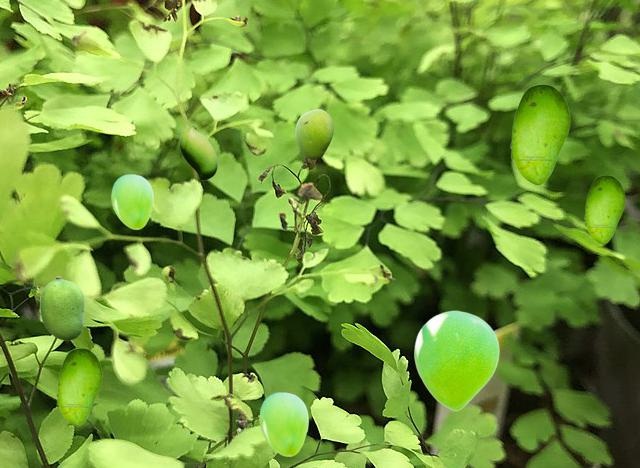green_mango: (414, 310, 498, 410), (510, 84, 569, 184), (56, 348, 101, 425), (259, 392, 307, 455), (584, 175, 624, 243), (40, 276, 83, 339), (111, 174, 152, 228), (179, 125, 216, 179), (295, 109, 332, 158)
